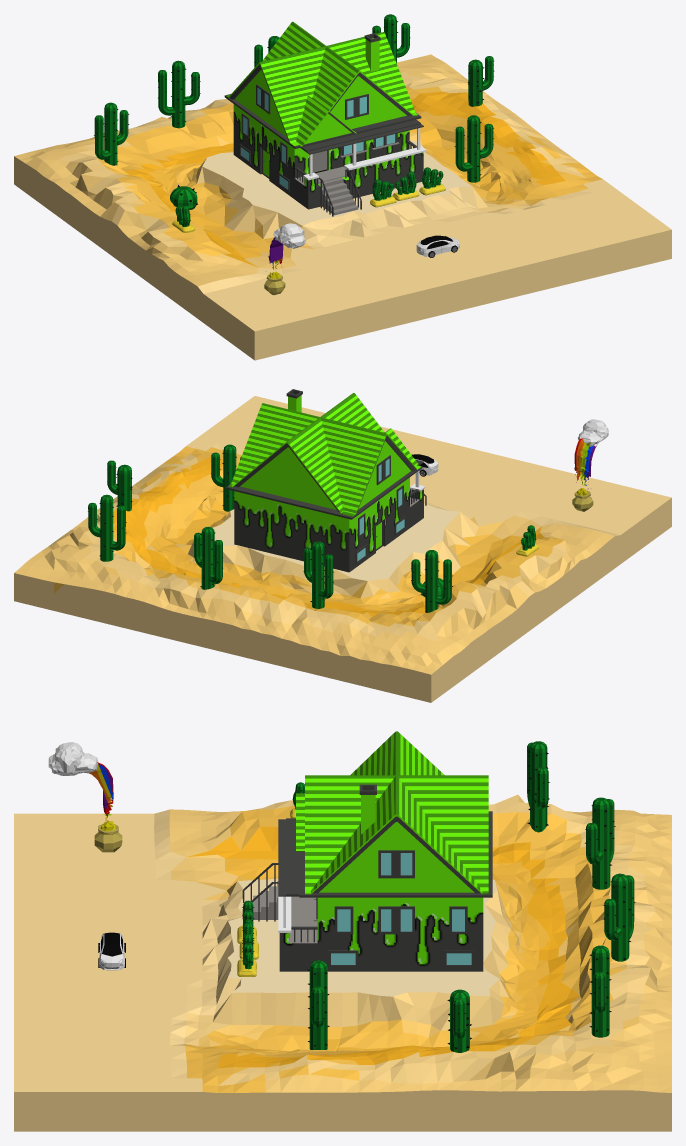
3 renders of one model, top to bottom at view 1: azimuth 30°, elevation 25°; view 2: azimuth 150°, elevation 25°; view 3: azimuth 270°, elevation 25°, orthographic. The views are drawn at different scales.
Parts seen in each view (by area): view 1: Cube.001, Cube.754, Cylinder.037, Cylinder.044, Cylinder.045, OBJRANDOM_RAINBOW, Cylinder.038, Cylinder.042, VEHICLES_TESLA, Cylinder.039, Cylinder.041, Sphere.023 (+1 smaller); view 2: Cube.001, Cube.754, Cylinder.042, Cylinder.045, OBJRANDOM_RAINBOW, Cylinder.044, Cylinder.043, Cylinder.037, Cylinder.038; view 3: Cube.001, Cube.754, OBJRANDOM_RAINBOW, Cylinder.043, Cylinder.044, Cylinder.045, Cylinder.042, Cylinder.037, Cylinder.038, VEHICLES_TESLA, Cylinder.041.
Boxes of the visible parts, <box> form: Cube.001: <box>14,54,671,360</box>; Cube.754: <box>224,21,426,216</box>; Cylinder.037: <box>454,115,493,182</box>; Cylinder.044: <box>158,60,200,128</box>; Cylinder.045: <box>94,102,129,165</box>; OBJRANDOM_RAINBOW: <box>264,223,305,295</box>; Cylinder.038: <box>468,56,494,106</box>; Cylinder.042: <box>372,14,410,63</box>; VEHICLES_TESLA: <box>416,235,459,257</box>; Cylinder.039: <box>370,179,396,207</box>; Cylinder.041: <box>419,167,445,195</box>; Sphere.023: <box>170,185,197,209</box>; Cube.001: <box>14,396,671,702</box>; Cube.754: <box>226,389,426,572</box>; Cylinder.042: <box>88,494,126,561</box>; Cylinder.045: <box>411,550,452,612</box>; OBJRANDOM_RAINBOW: <box>572,419,608,511</box>; Cylinder.044: <box>303,541,333,608</box>; Cylinder.043: <box>194,526,222,589</box>; Cylinder.037: <box>211,444,241,511</box>; Cylinder.038: <box>107,460,132,511</box>; Cube.001: <box>14,794,671,1131</box>; Cube.754: <box>242,731,492,971</box>; OBJRANDOM_RAINBOW: <box>48,742,122,852</box>; Cylinder.043: <box>603,873,635,961</box>; Cylinder.044: <box>585,797,615,889</box>; Cylinder.045: <box>527,741,549,832</box>; Cylinder.042: <box>589,945,611,1037</box>; Cylinder.037: <box>307,960,329,1049</box>; Cylinder.038: <box>447,989,471,1052</box>; VEHICLES_TESLA: <box>98,932,125,970</box>; Cylinder.041: <box>237,933,256,976</box>.
Bounding box in the file's own units: 4002 × 1630 × 4001.
Materials: 29 (3 with a texture image).
